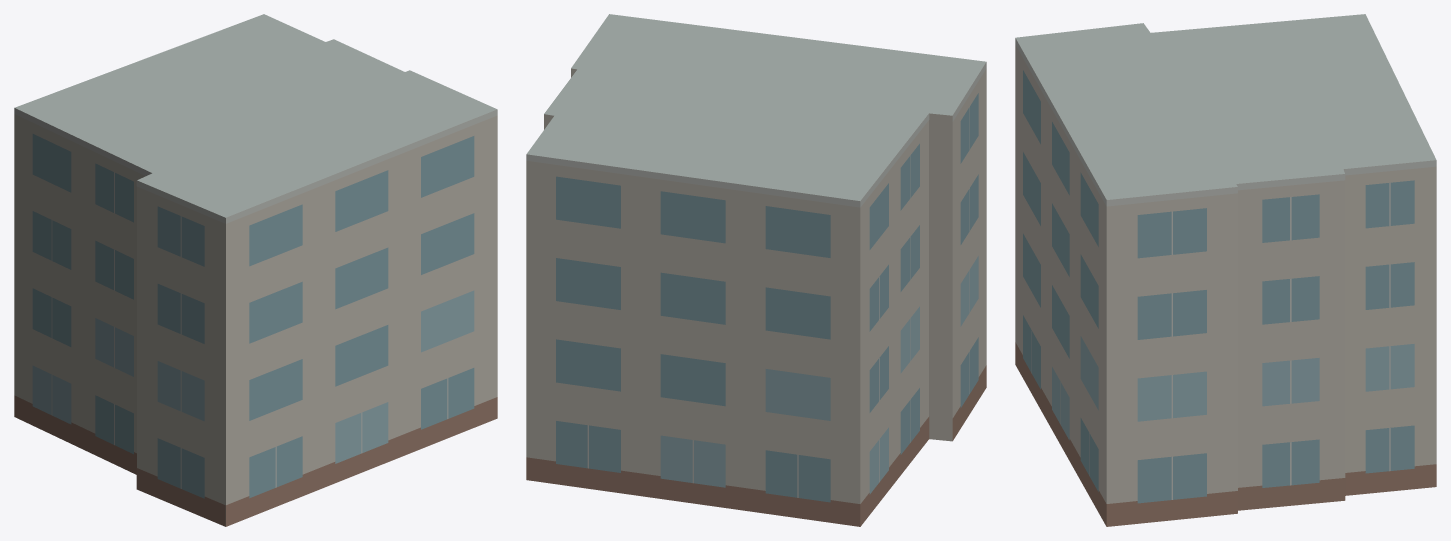
The model's file is survey-upis-32609148.glb.
3 views of the same model, side by side, from view 1: azimuth 30°, elevation 25°; view 2: azimuth 150°, elevation 25°; view 3: azimuth 270°, elevation 25° (orthographic). The views are drawn at different scales.
Parts seen in each view (by area): view 1: survey-upis-32609148.tmp; view 2: survey-upis-32609148.tmp; view 3: survey-upis-32609148.tmp.
Part boxes in pixels (box(x1,y1,x2,y2)): survey-upis-32609148.tmp: box(14, 14, 497, 526); survey-upis-32609148.tmp: box(526, 14, 986, 526); survey-upis-32609148.tmp: box(1015, 14, 1436, 526).
Bounding box in the file's own units: 15.03 × 12.3 × 14.38.
